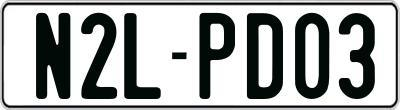0: (293, 13, 330, 101)
2: (78, 12, 117, 100)
3: (336, 12, 378, 99)
D: (247, 13, 286, 101)
L: (122, 12, 164, 104)
N: (36, 10, 76, 100)
P: (199, 13, 236, 102)
